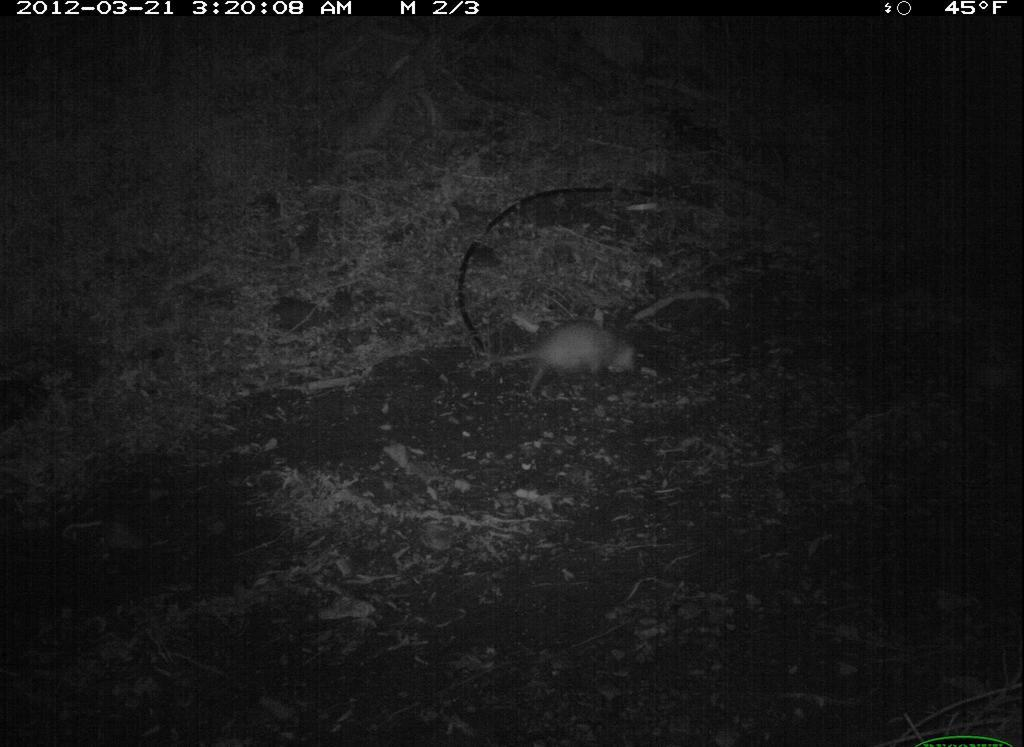opossum: (475, 315, 649, 408)
